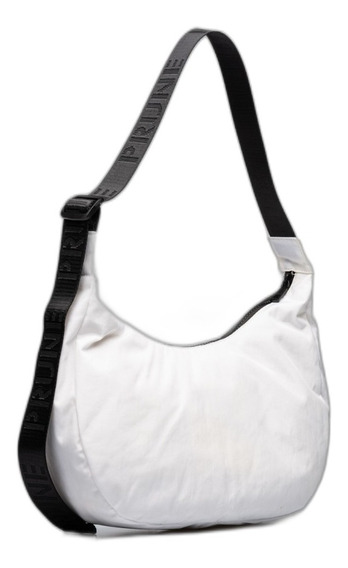cartera: (19, 25, 332, 533)
